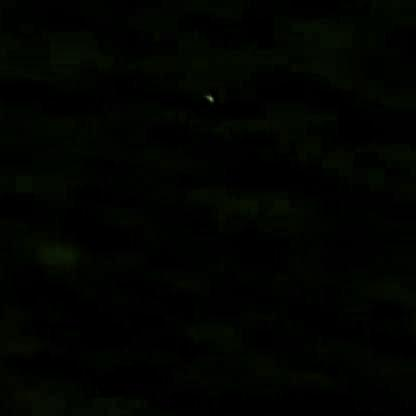golfball: (201, 89, 212, 105)
